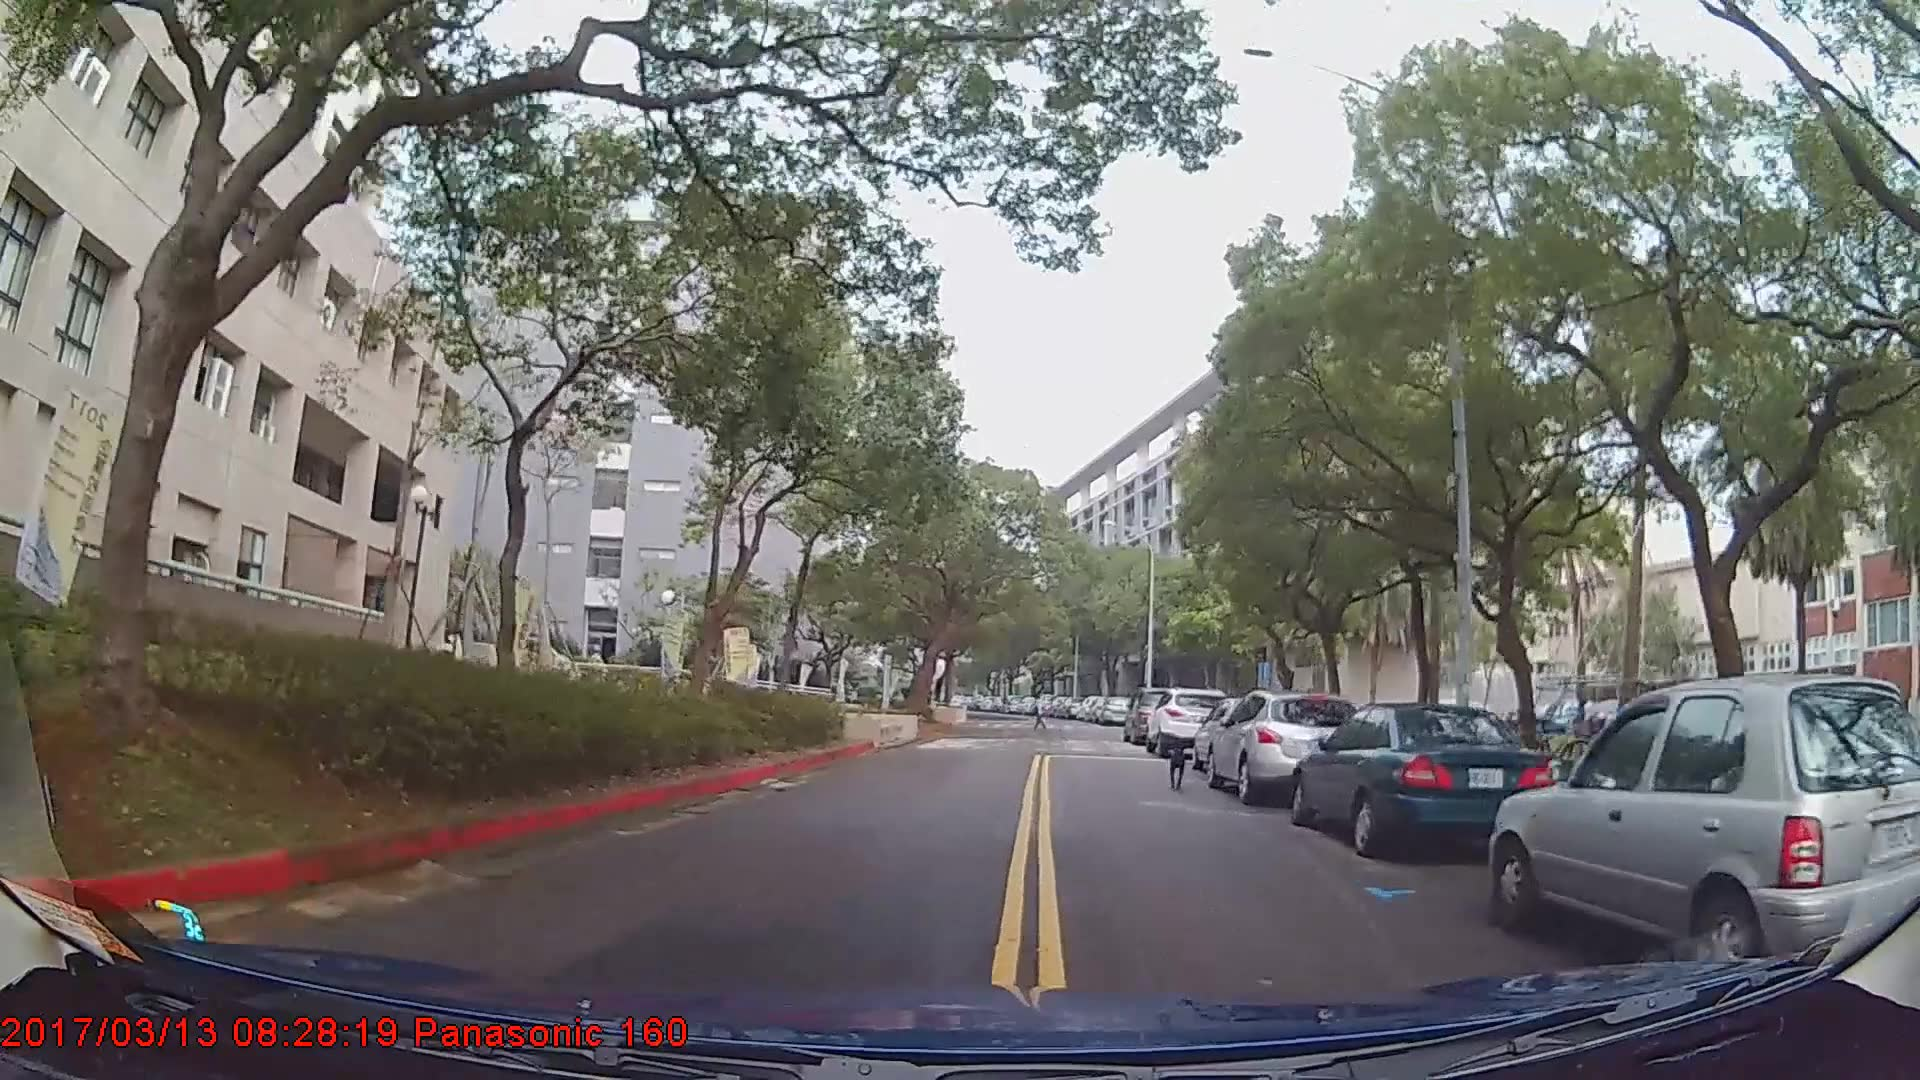pedestrian: (1033, 693, 1053, 732)
vehicle: (1486, 668, 1920, 989), (1290, 703, 1563, 863), (1203, 690, 1364, 808), (1146, 684, 1231, 754), (1097, 693, 1134, 726)
